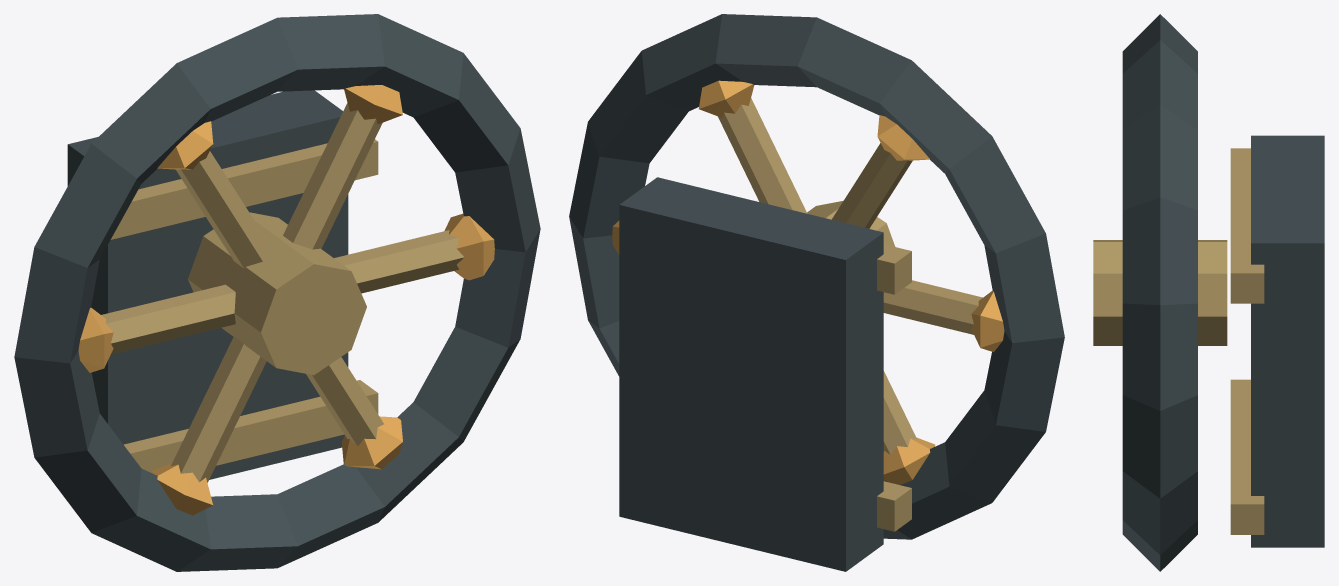
File: Equip_Flywheel.fbx
3 views of the same model, side by side, from view 1: azimuth 30°, elevation 25°; view 2: azimuth 150°, elevation 25°; view 3: azimuth 270°, elevation 25° (orthographic). The views are drawn at different scales.
Parts seen in each view (by area): view 1: Equip_Flywheel; view 2: Equip_Flywheel; view 3: Equip_Flywheel.
Boxes of the visible parts, bbox=[...] form: Equip_Flywheel: bbox=[14, 14, 540, 571]; Equip_Flywheel: bbox=[569, 14, 1064, 571]; Equip_Flywheel: bbox=[1093, 14, 1324, 571].
Bounding box in the file's own units: 0.416 × 0.416 × 0.1725.
